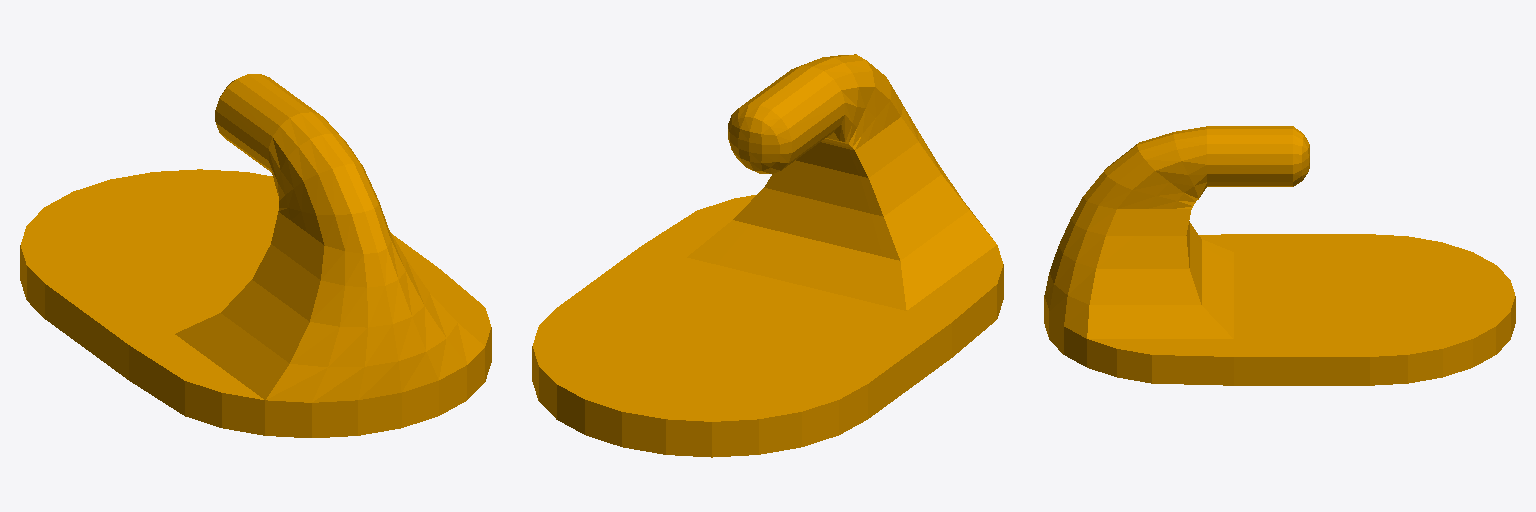
robot.urdf — hook:
<?xml version="1.0"?>
<robot name="hook">

  <link name="base_link">
    <visual>
      <geometry>
        <mesh filename="package://hook/hook1.obj" scale="0.1 0.1 0.1"/>
      </geometry>
    </visual>
    <collision>
      <geometry>
        <mesh filename="package://hook/hook1.obj" scale="0.1 0.1 0.1" />
      </geometry>
    </collision>
  </link>

</robot>

--- Render facts (derived) ---
3 views of the same robot in one strip: view 1: azimuth 30°, elevation 25°; view 2: azimuth 150°, elevation 25°; view 3: azimuth 270°, elevation 25° (orthographic).
Model hook with 1 links and 0 joints (none), rooted at base_link, posed all joints at 0.
Links seen in each view (by area): view 1: base_link; view 2: base_link; view 3: base_link.
Boxes of the visible links, left/top/right/bottom form: base_link: left=20, top=74, right=491, bottom=437; base_link: left=532, top=54, right=1003, bottom=457; base_link: left=1044, top=126, right=1515, bottom=385.
Bounding box of the posed robot: 0.097 × 0.1572 × 0.0719 m (x, y, z).
1 mesh visuals loaded from 1 distinct referenced files (1 OBJ).